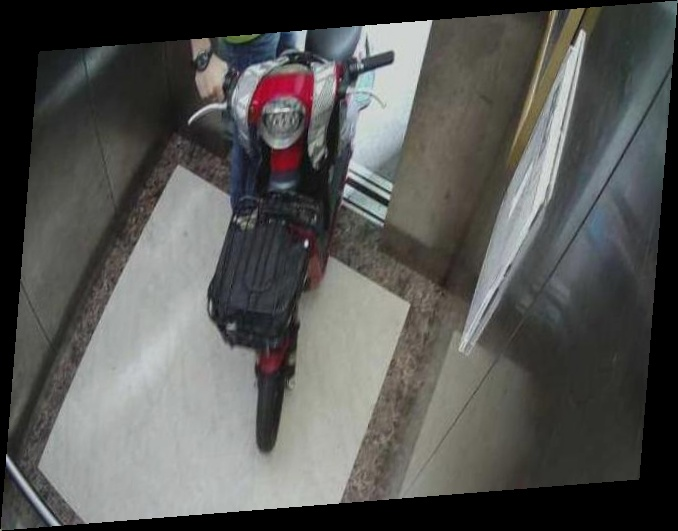electromobile: (206, 24, 388, 464)
